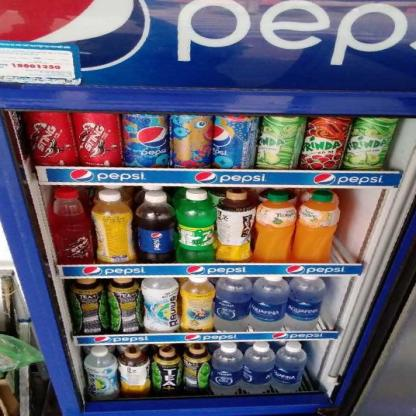7up-chai: (171, 188, 219, 264)
aquafina: (285, 274, 330, 330), (248, 277, 290, 331), (214, 275, 251, 330), (241, 341, 276, 394), (210, 342, 245, 394), (272, 340, 306, 391)
mirinda-sodakem: (252, 112, 309, 171), (344, 112, 398, 172)
mirinda-xaxi: (298, 112, 355, 170)
olong-tea: (104, 275, 147, 335), (67, 277, 108, 334), (147, 343, 184, 392), (180, 343, 212, 393)
olong-teaplus: (213, 188, 257, 261), (117, 345, 152, 394)
pepsi-blue: (115, 108, 177, 170), (165, 109, 218, 169), (211, 112, 262, 173)
pepsi-blue-chai: (134, 188, 180, 262)
revive-chanhmuoi-chai: (87, 188, 138, 264), (174, 274, 216, 335)
revive-white-chai: (136, 275, 183, 331), (78, 346, 121, 399)
string-red: (65, 109, 127, 170), (17, 108, 78, 168)
string-red-chai: (40, 187, 92, 264)
twister-cam: (292, 189, 340, 263), (254, 189, 299, 263)
